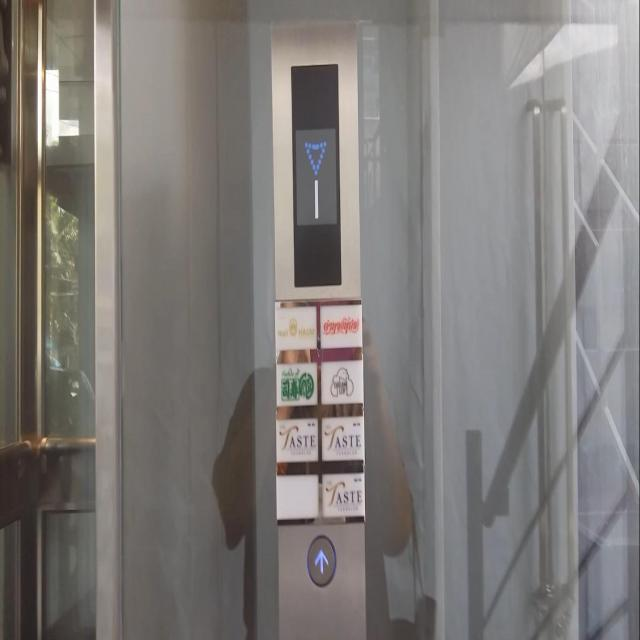led: (290, 61, 342, 286)
up: (307, 532, 337, 588)
